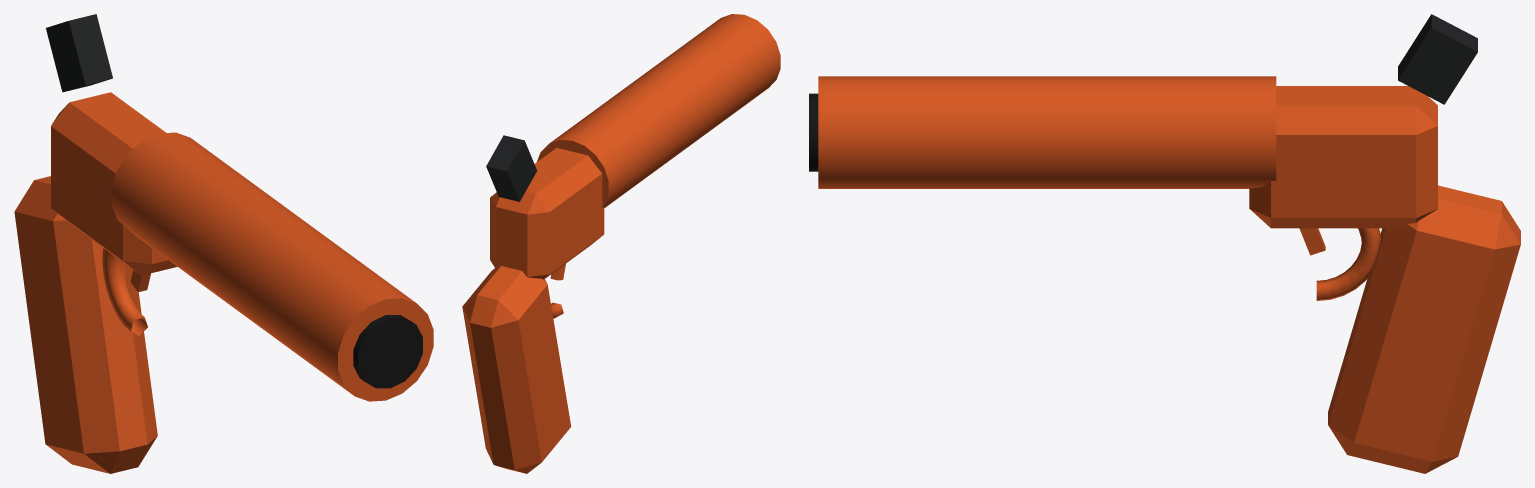
The model's file is flare_gun.glb.
3 views of the same model, side by side, from view 1: azimuth 30°, elevation 25°; view 2: azimuth 150°, elevation 25°; view 3: azimuth 270°, elevation 25° (orthographic). The views are drawn at different scales.
Parts seen in each view (by area): view 1: flare_gun; view 2: flare_gun; view 3: flare_gun.
Part boxes in pixels (left/top/right/bottom): flare_gun: left=14, top=14, right=433, bottom=473; flare_gun: left=462, top=14, right=780, bottom=473; flare_gun: left=809, top=14, right=1520, bottom=473.
Bounding box in the file's own units: 0.0414 × 0.1828 × 0.2643.
